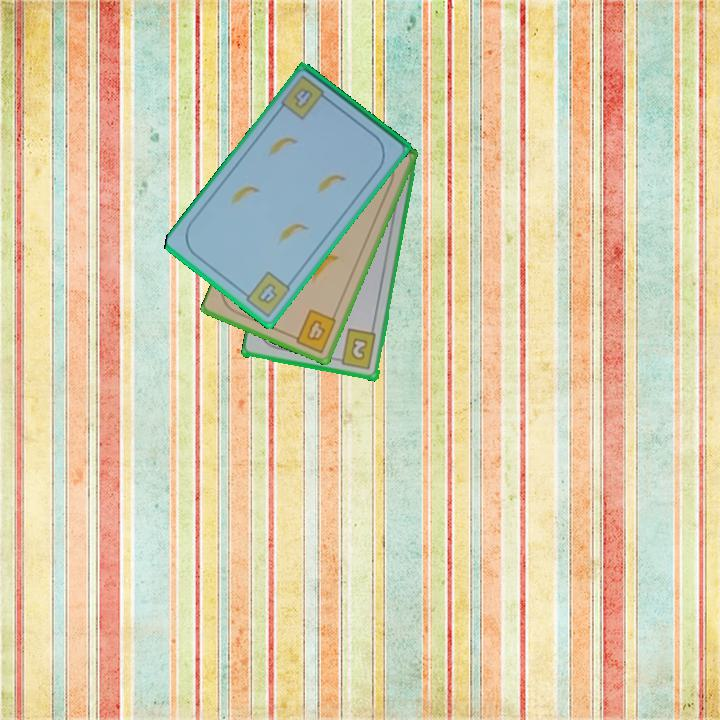2b: (332, 326, 379, 373)
4b: (238, 268, 294, 320), (287, 306, 339, 356), (290, 85, 316, 112)
